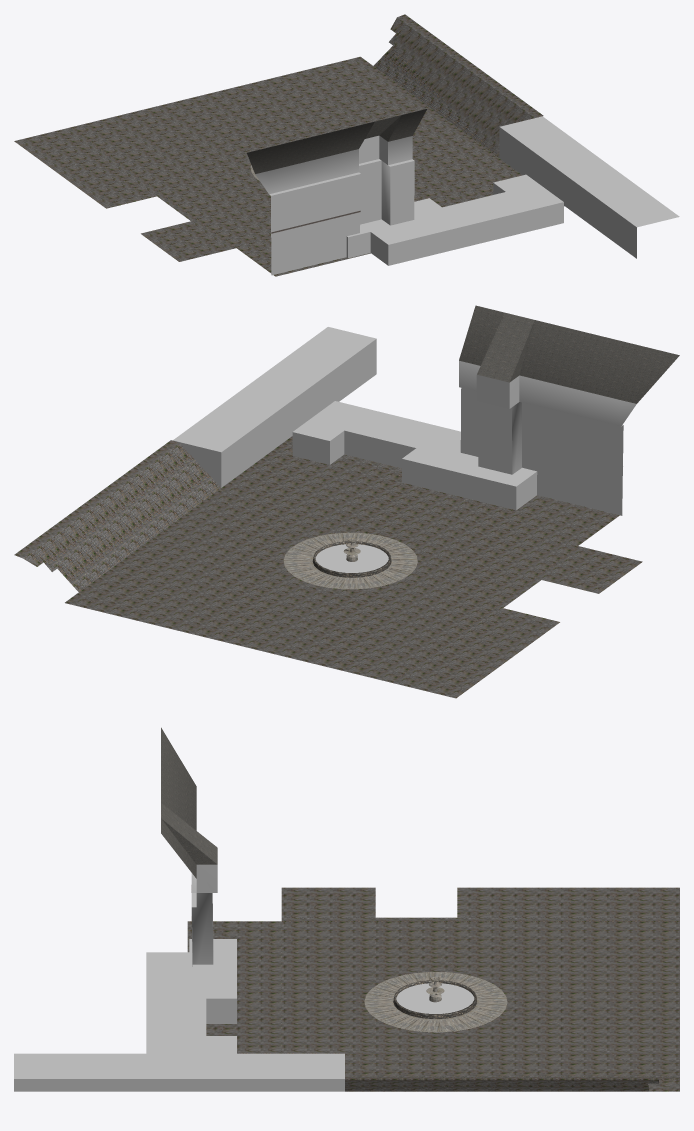
Rendered from ground_test_1.fbx.
3 views of the same model, one above another, from view 1: azimuth 30°, elevation 25°; view 2: azimuth 150°, elevation 25°; view 3: azimuth 270°, elevation 25° (orthographic). The views are drawn at different scales.
Parts seen in each view (by area): view 1: FakeOutsideChunk-01; view 2: FakeOutsideChunk-01; view 3: FakeOutsideChunk-01.
Boxes of the visible parts, x1,y1,x2,y2 form: FakeOutsideChunk-01: [14, 14, 679, 276]; FakeOutsideChunk-01: [14, 305, 679, 698]; FakeOutsideChunk-01: [14, 727, 679, 1091].
Bounding box in the file's own units: 7800 × 2710 × 9548.
